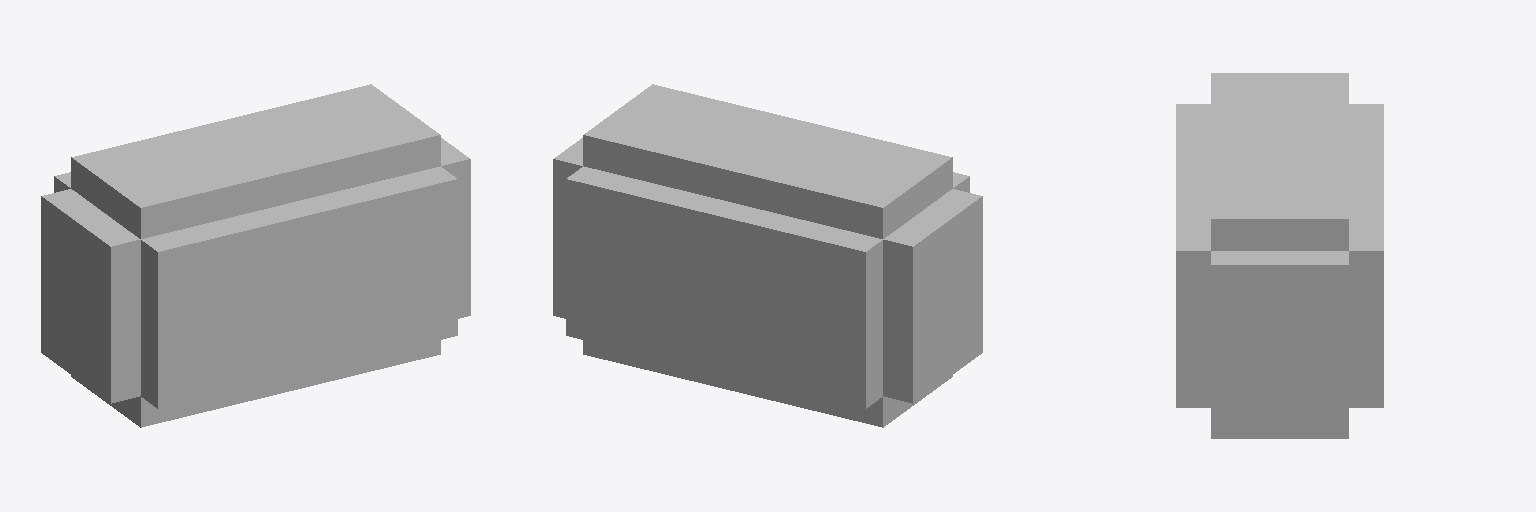
The model's file is barrelbell47g.obj.
3 renders of one model, left to right at view 1: azimuth 30°, elevation 25°; view 2: azimuth 150°, elevation 25°; view 3: azimuth 270°, elevation 25°, orthographic.
Visible parts, largest first — view 1: bell47-fueltank; view 2: bell47-fueltank; view 3: bell47-fueltank.
Boxes of the visible parts, <box> form: bell47-fueltank: <box>41,84,470,427</box>; bell47-fueltank: <box>553,84,982,427</box>; bell47-fueltank: <box>1176,73,1383,438</box>.
Bounding box in the file's own units: 1.08 × 0.6315 × 0.5413.